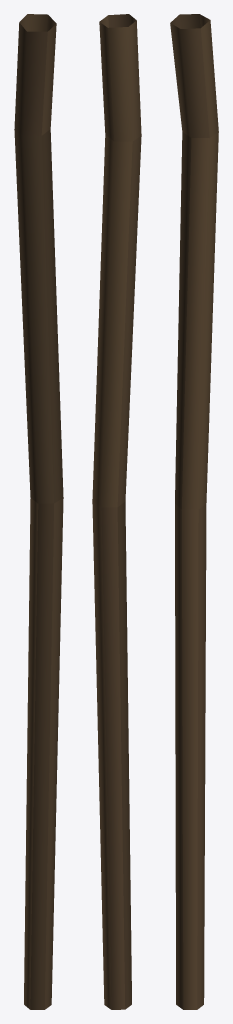
The model's file is bastone.glb.
3 renders of one model, left to right at view 1: azimuth 30°, elevation 25°; view 2: azimuth 210°, elevation 25°; view 3: azimuth 270°, elevation 25°, orthographic.
Visible parts, largest first — view 1: bastone; view 2: bastone; view 3: bastone.
Boxes of the visible parts, <box> form: bastone: <box>14,14,63,1009</box>; bastone: <box>92,14,141,1009</box>; bastone: <box>170,14,218,1009</box>.
Bounding box in the file's own units: 0.043 × 1.07 × 0.0481.
